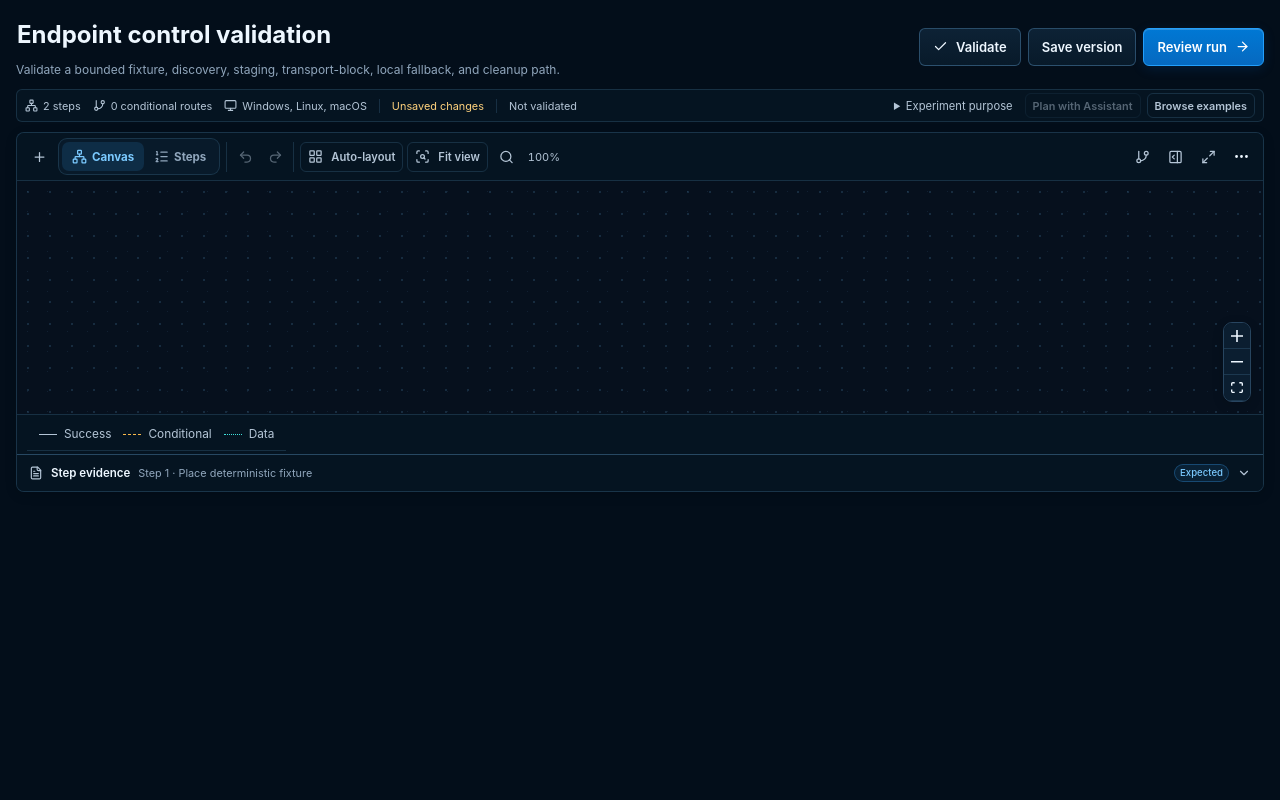
Builder graph step search › finds by behavior purpose, disambiguates duplicate titles, and reports no matches
The image size is (1280, 800).
Step 1. Click the button named "Find step" → (507, 157), box [492,142,522,172]
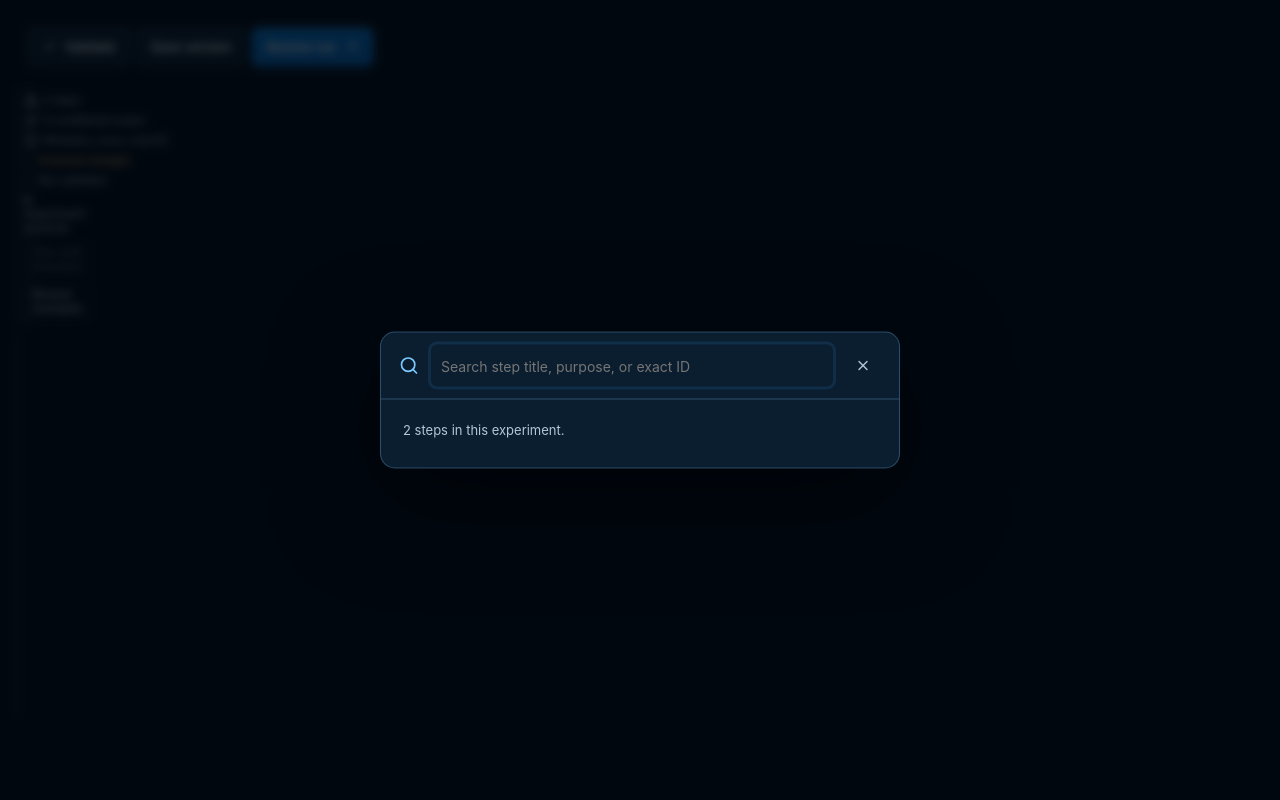
Step 2. Type "synthetic research material" into the field named "Find a step" → (632, 366), box [431,344,833,386]
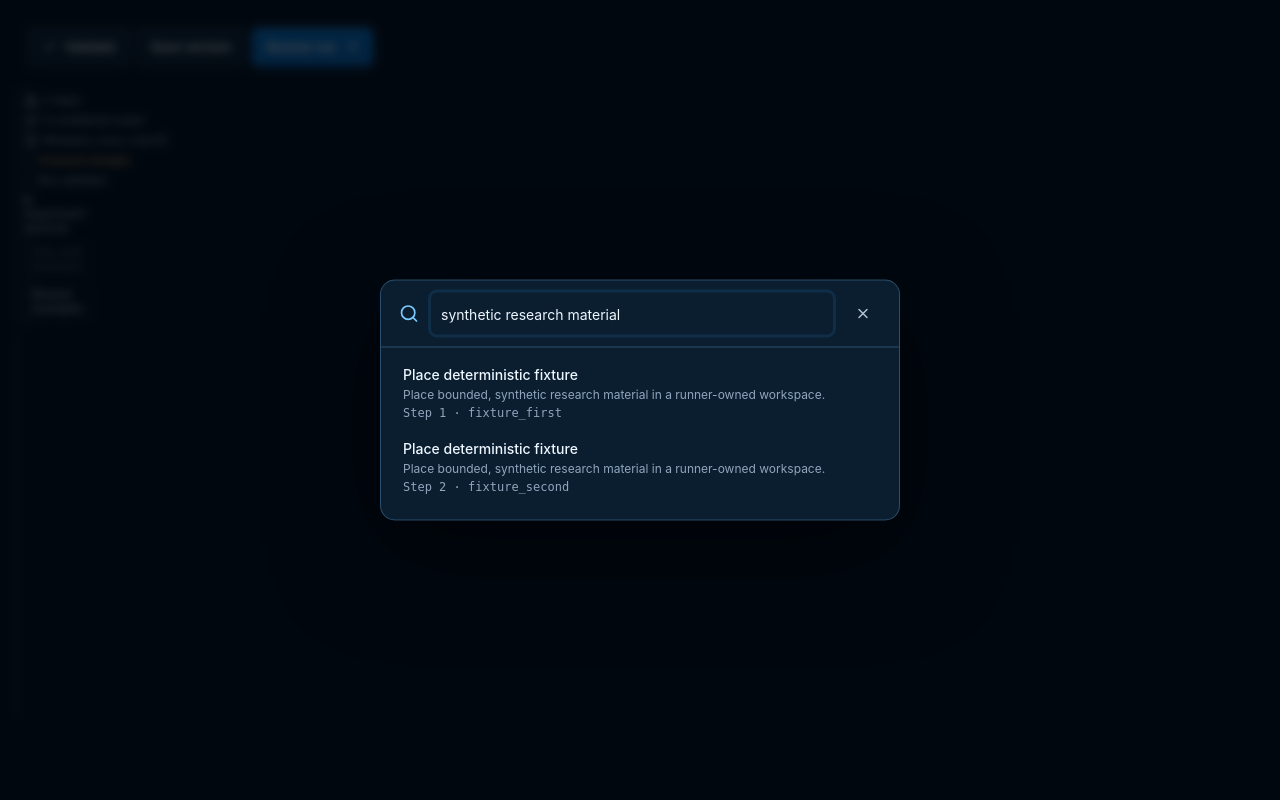
Result: the button named "Step 1 · fixture_first" is shown at [393,356,887,430]
Result: the button named "Step 2 · fixture_second" is shown at [393,430,887,504]
Step 3. Clear the field named "Find a step" → (632, 314), box [431,292,833,334]
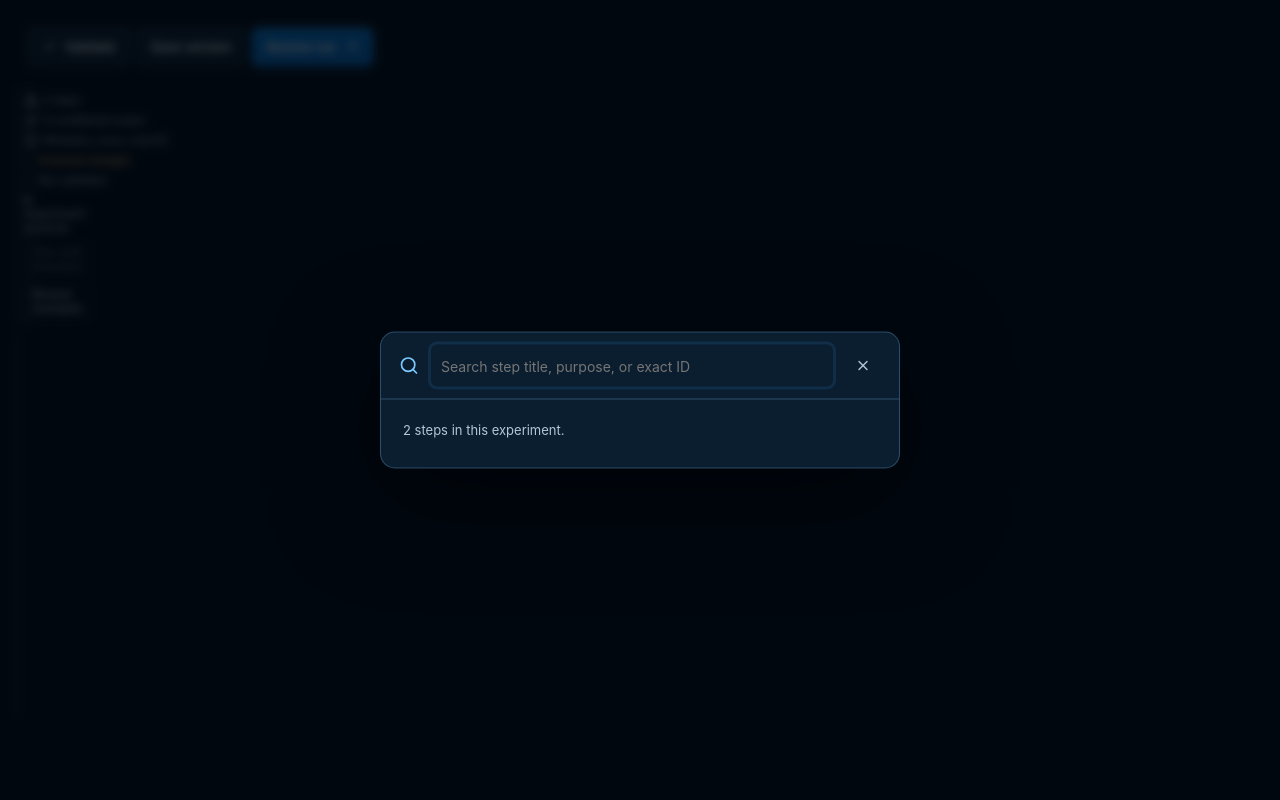
Step 4. Type "no-step-has-this-title" into the field named "Find a step" → (632, 366), box [431,344,833,386]
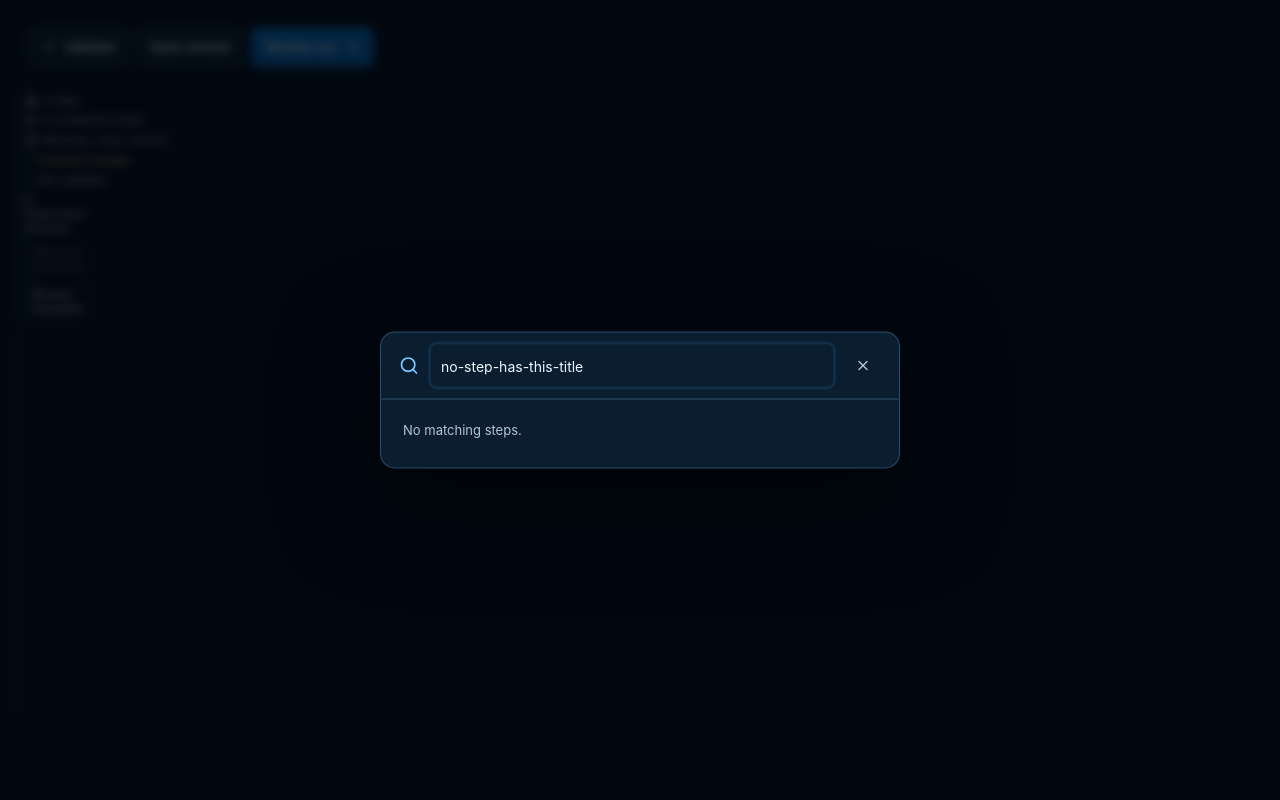
Result: the text "No matching steps." is shown at [403,422,522,438]
